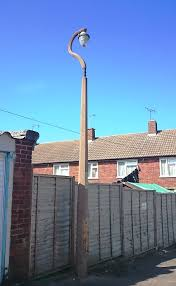light_pole: (64, 26, 96, 282)
